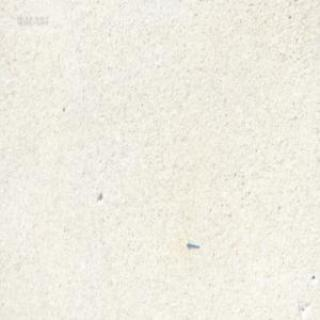Nailtrack_idkeyframe: (185, 239, 199, 247)
